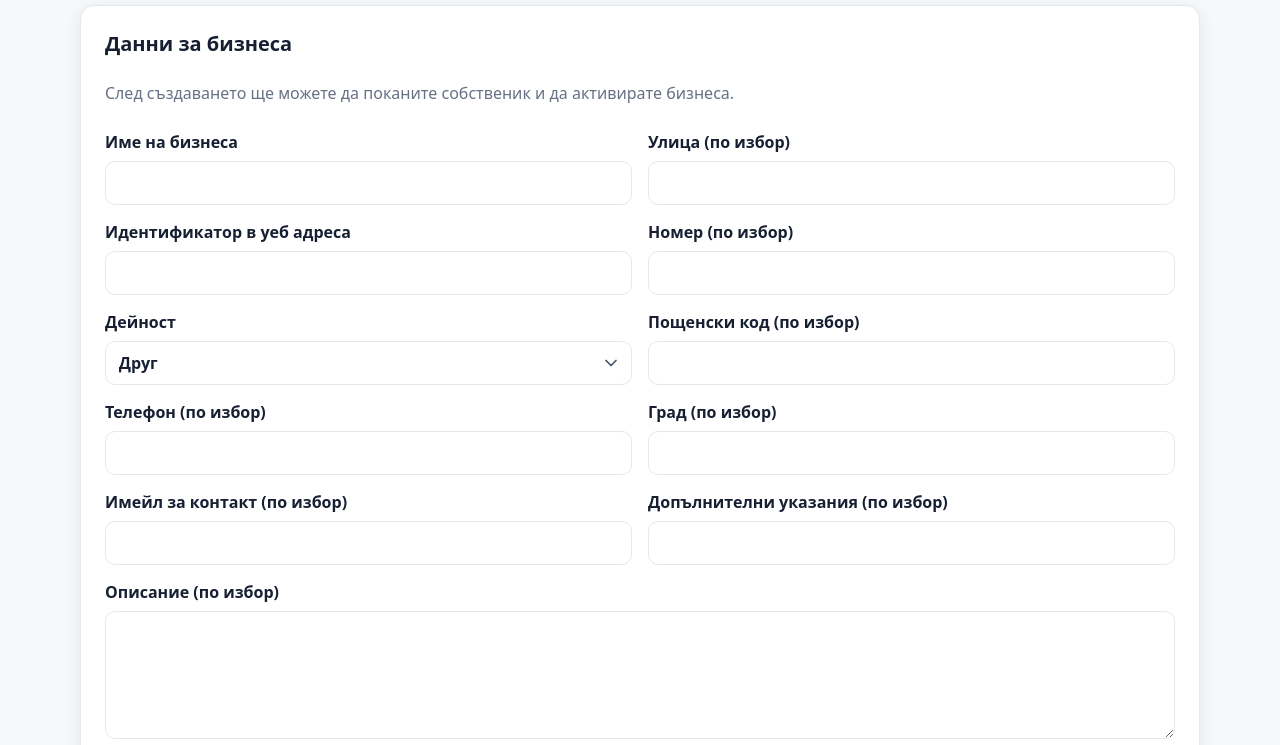
Test: BusinessCreate › shows a backend slug field error inline without a generic form alert
The width and height of the screenshot is (1280, 745).
Type "Студио А" into the field labelled "Име на бизнеса" at [368, 183], box [105,161,632,205]
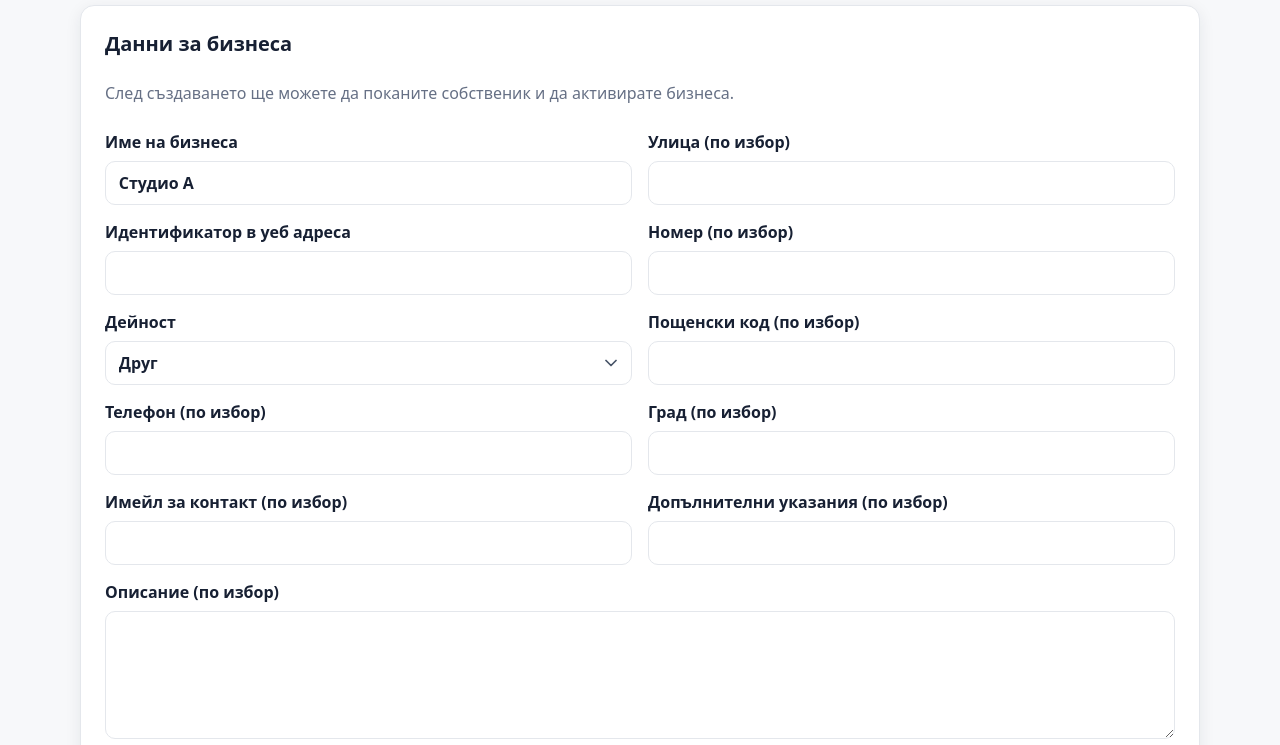
Type "studio-a" into the field labelled "Идентификатор в уеб адреса" at [368, 273], box [105,251,632,295]
(page scrolled)
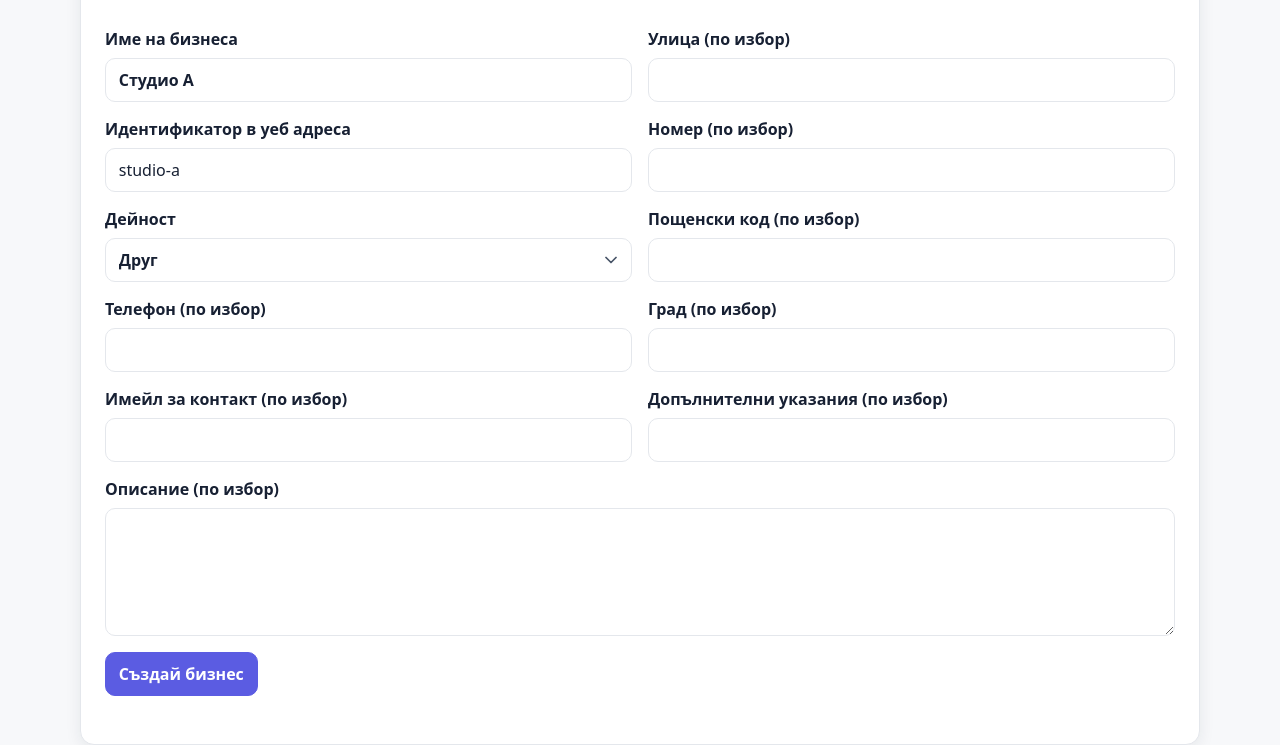
Click the button "Създай бизнес" at [181, 674], box [105,652,258,696]
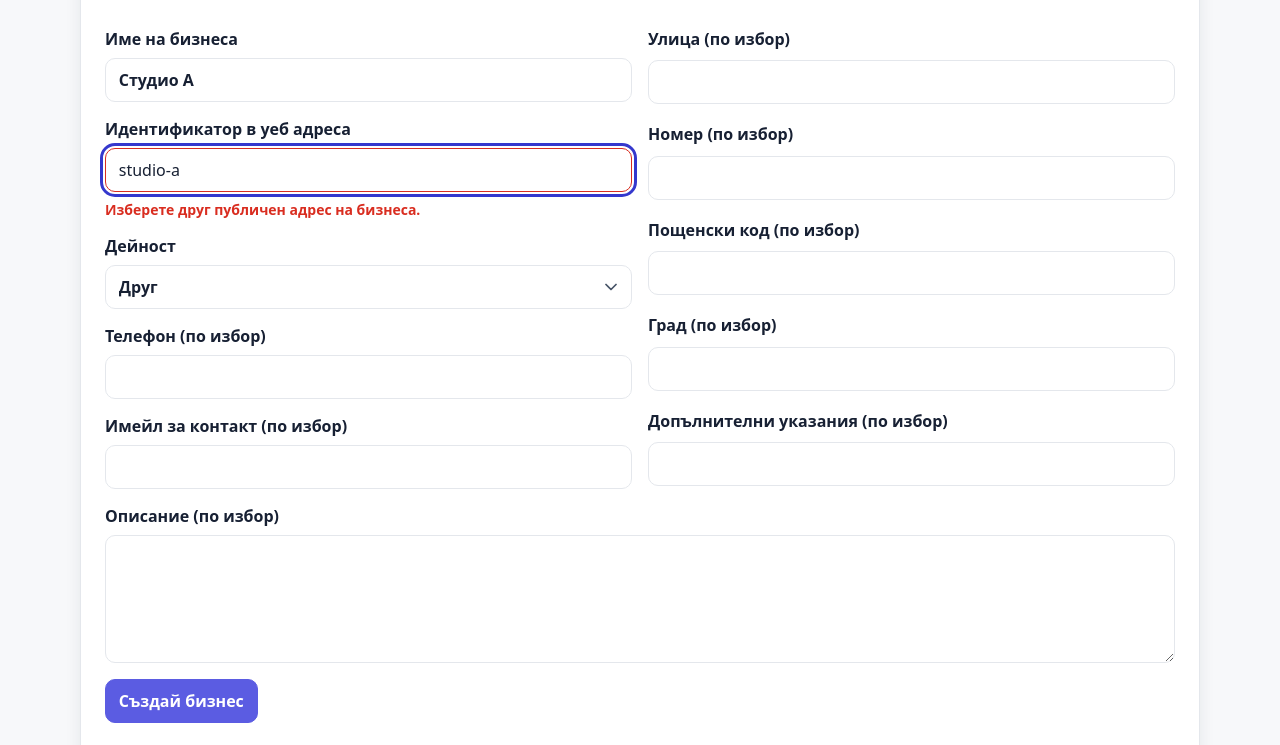
Expected: the text "Изберете друг публичен адрес на бизнеса." is shown, [105,200,420,219]
